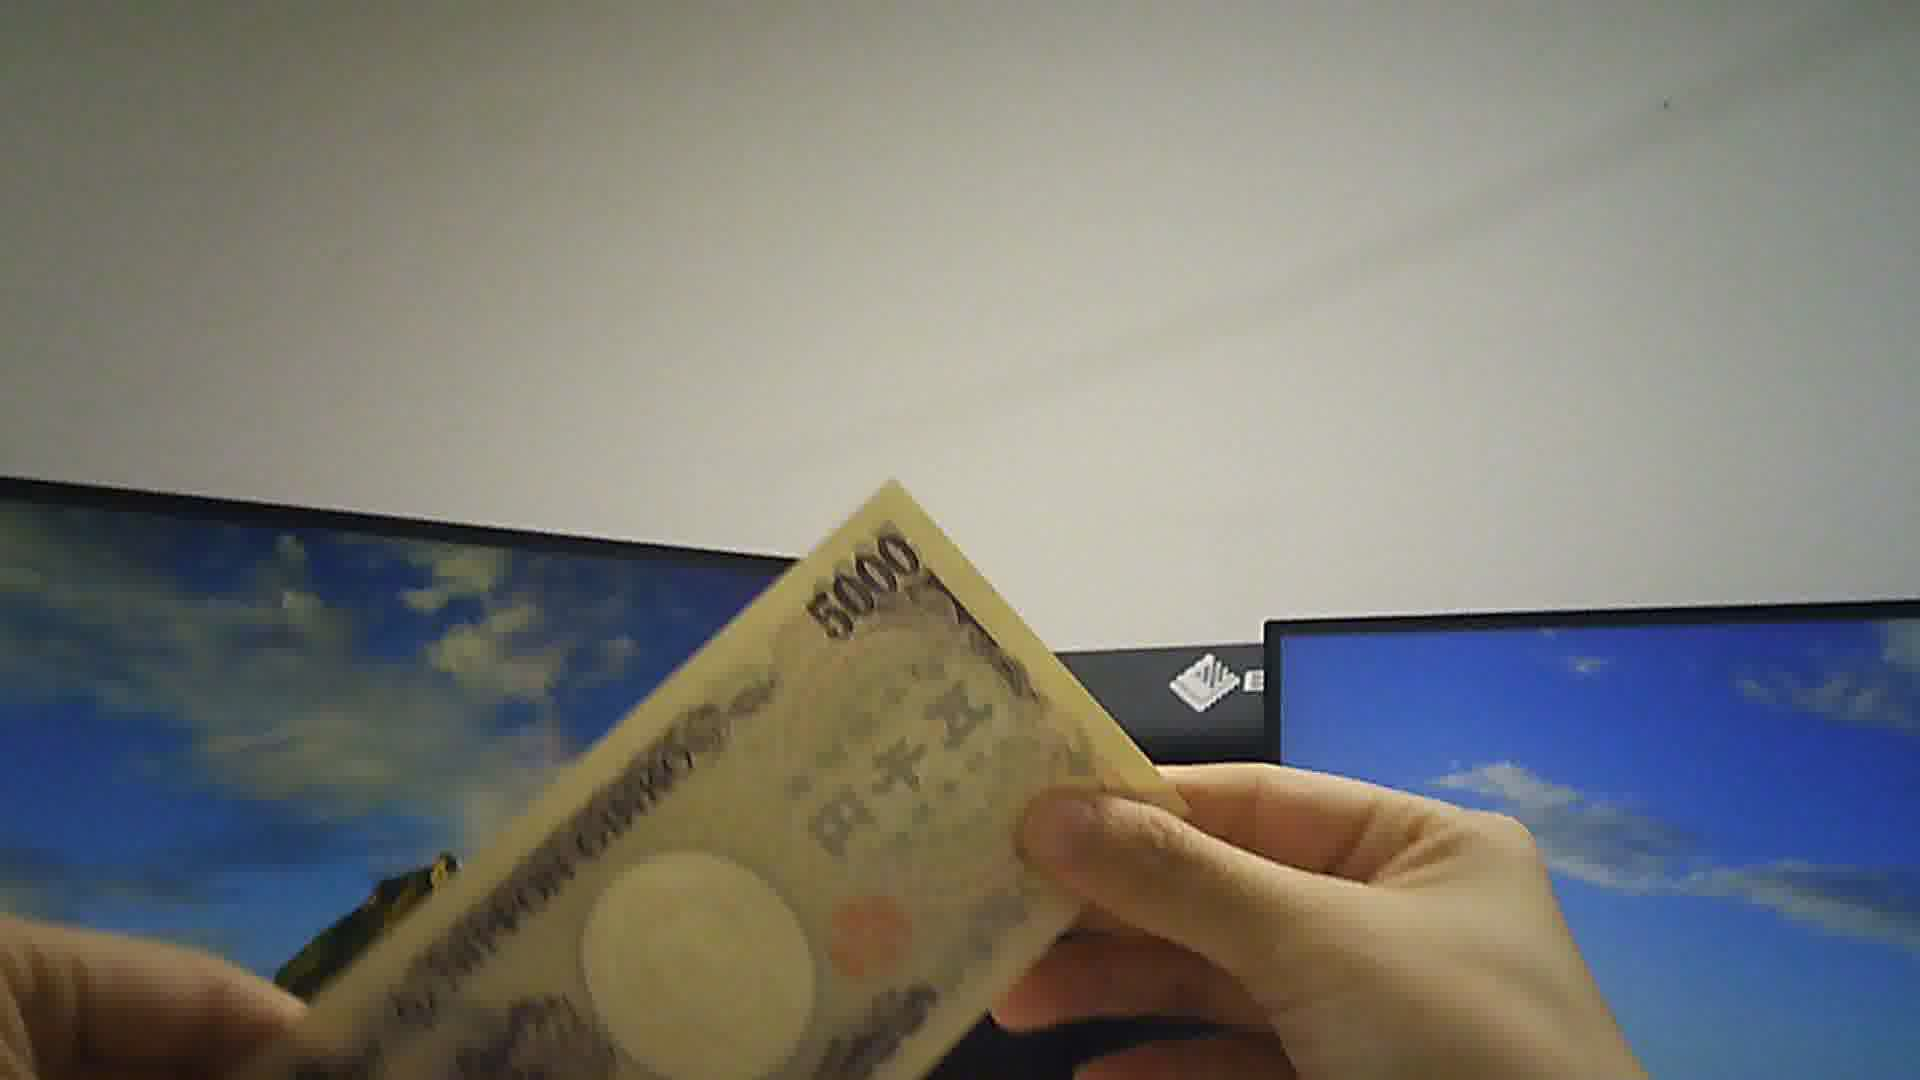5,000 Yen: (239, 485, 1167, 1079)
